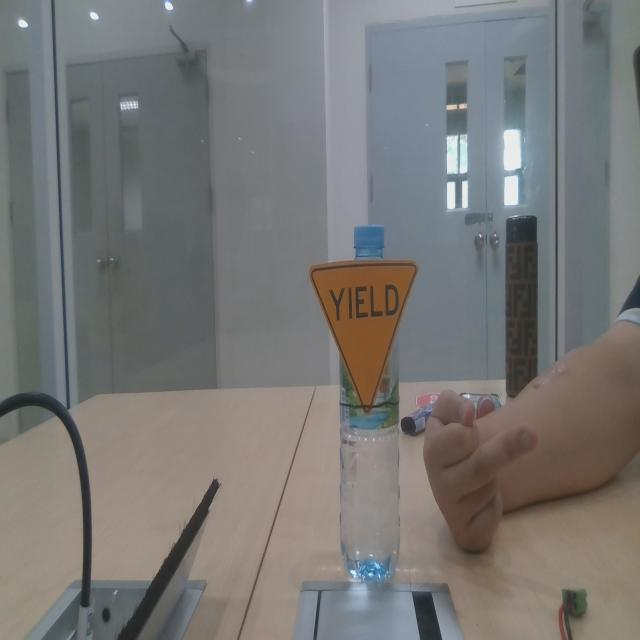Yield: (300, 243, 425, 424)
